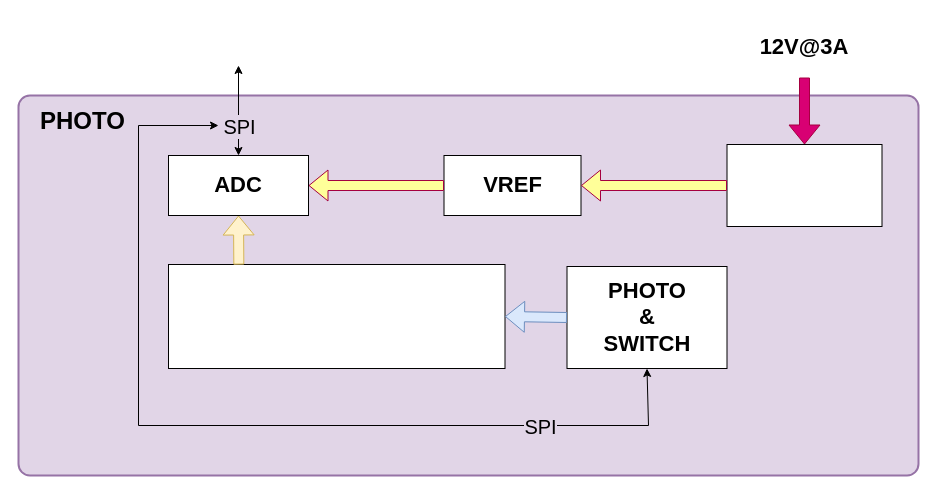
The diagram is 936 pixels wide and 493 high, and some of its shapes have lost their labels. The centre of each missing label's shape, as x and y in pixels:
STEP-DOWN CONVERTER: pixel 804 185
TRANSIMPEDANCE AMPLIFIER & ANTI-ALIASING FILTER: pixel 336 316
